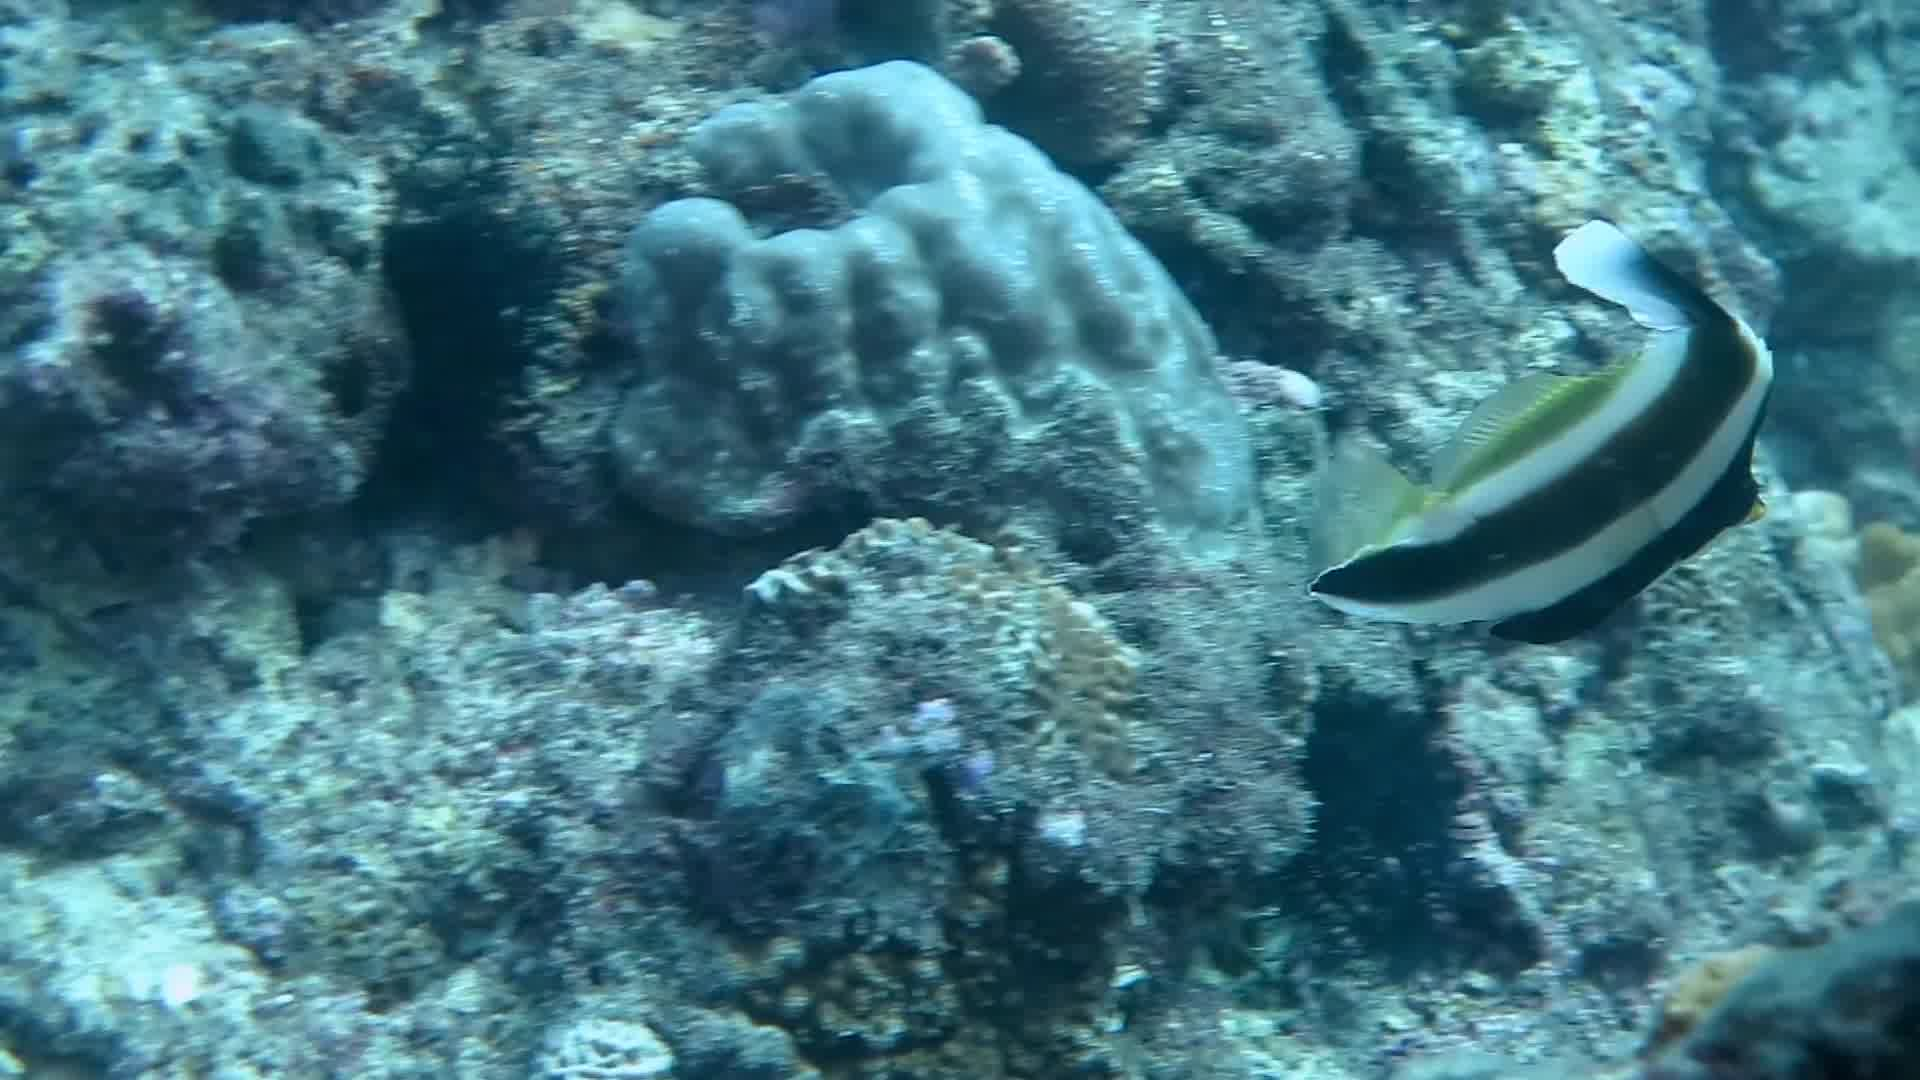Heniochus chrysostomus: (1209, 178, 1854, 767)
